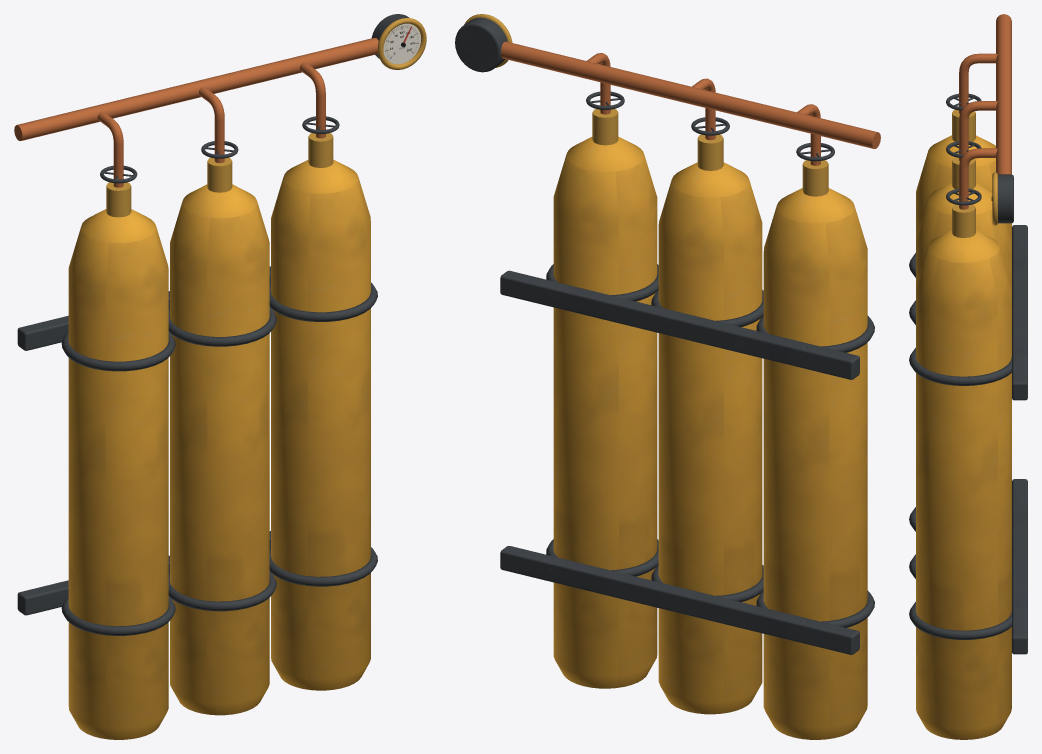
File: AirTanks.glb
3 views of the same model, side by side, from view 1: azimuth 30°, elevation 25°; view 2: azimuth 150°, elevation 25°; view 3: azimuth 270°, elevation 25° (orthographic). The views are drawn at different scales.
Visible parts, largest first — view 1: AirTanks_Body; view 2: AirTanks_Body; view 3: AirTanks_Body, AirTanks_Valve3, AirTanks_Valve1, AirTanks_Valve2.
Part boxes in pixels (x1,y1,x2,y2): AirTanks_Body: (14,14,426,739); AirTanks_Body: (455,14,880,739); AirTanks_Body: (909,14,1027,739); AirTanks_Valve3: (946,188,981,205); AirTanks_Valve1: (946,93,981,110); AirTanks_Valve2: (946,141,981,157).
Size of the model in its own units: 1.12 by 1.64 by 0.297.
Materials: 8 (4 with a texture image).
